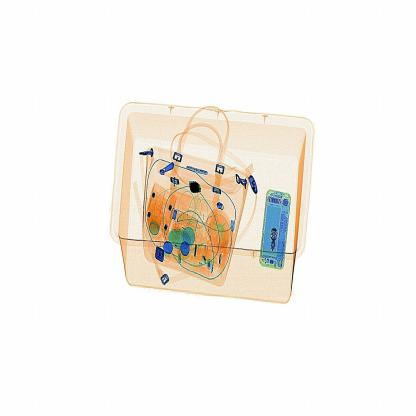scissors: (184, 174, 208, 207)
